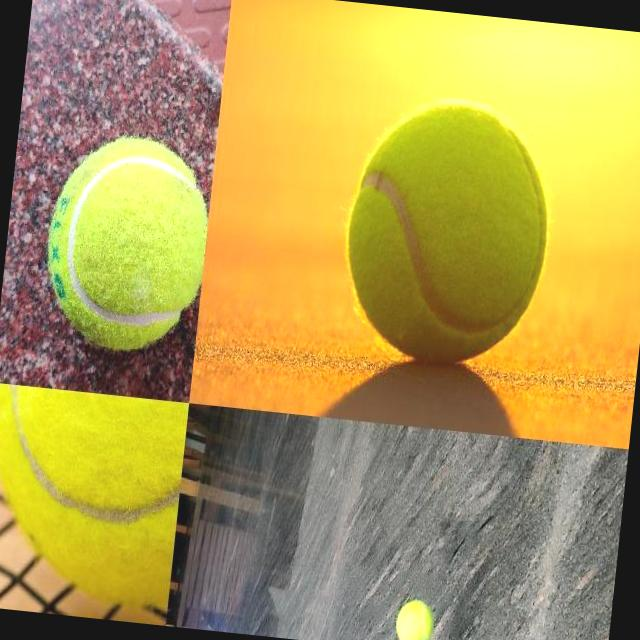Tennis Ball: (333, 94, 559, 372), (0, 382, 188, 609), (38, 129, 215, 358), (393, 597, 435, 640)
